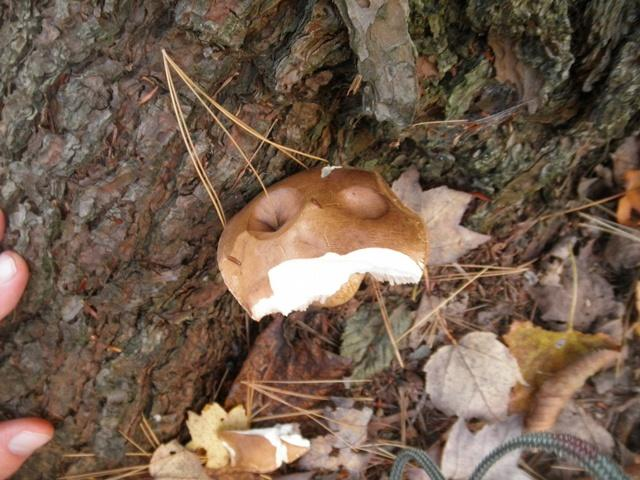Non-edible Mushroom: (215, 163, 430, 322)
